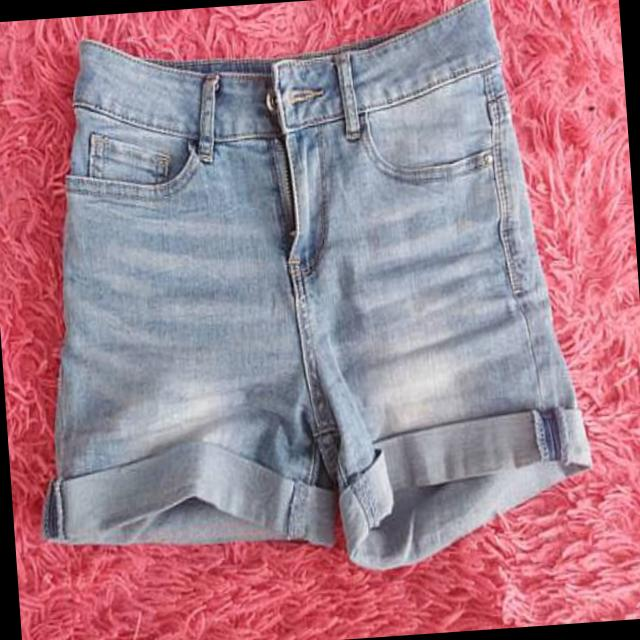SHORT: (18, 0, 623, 593)
